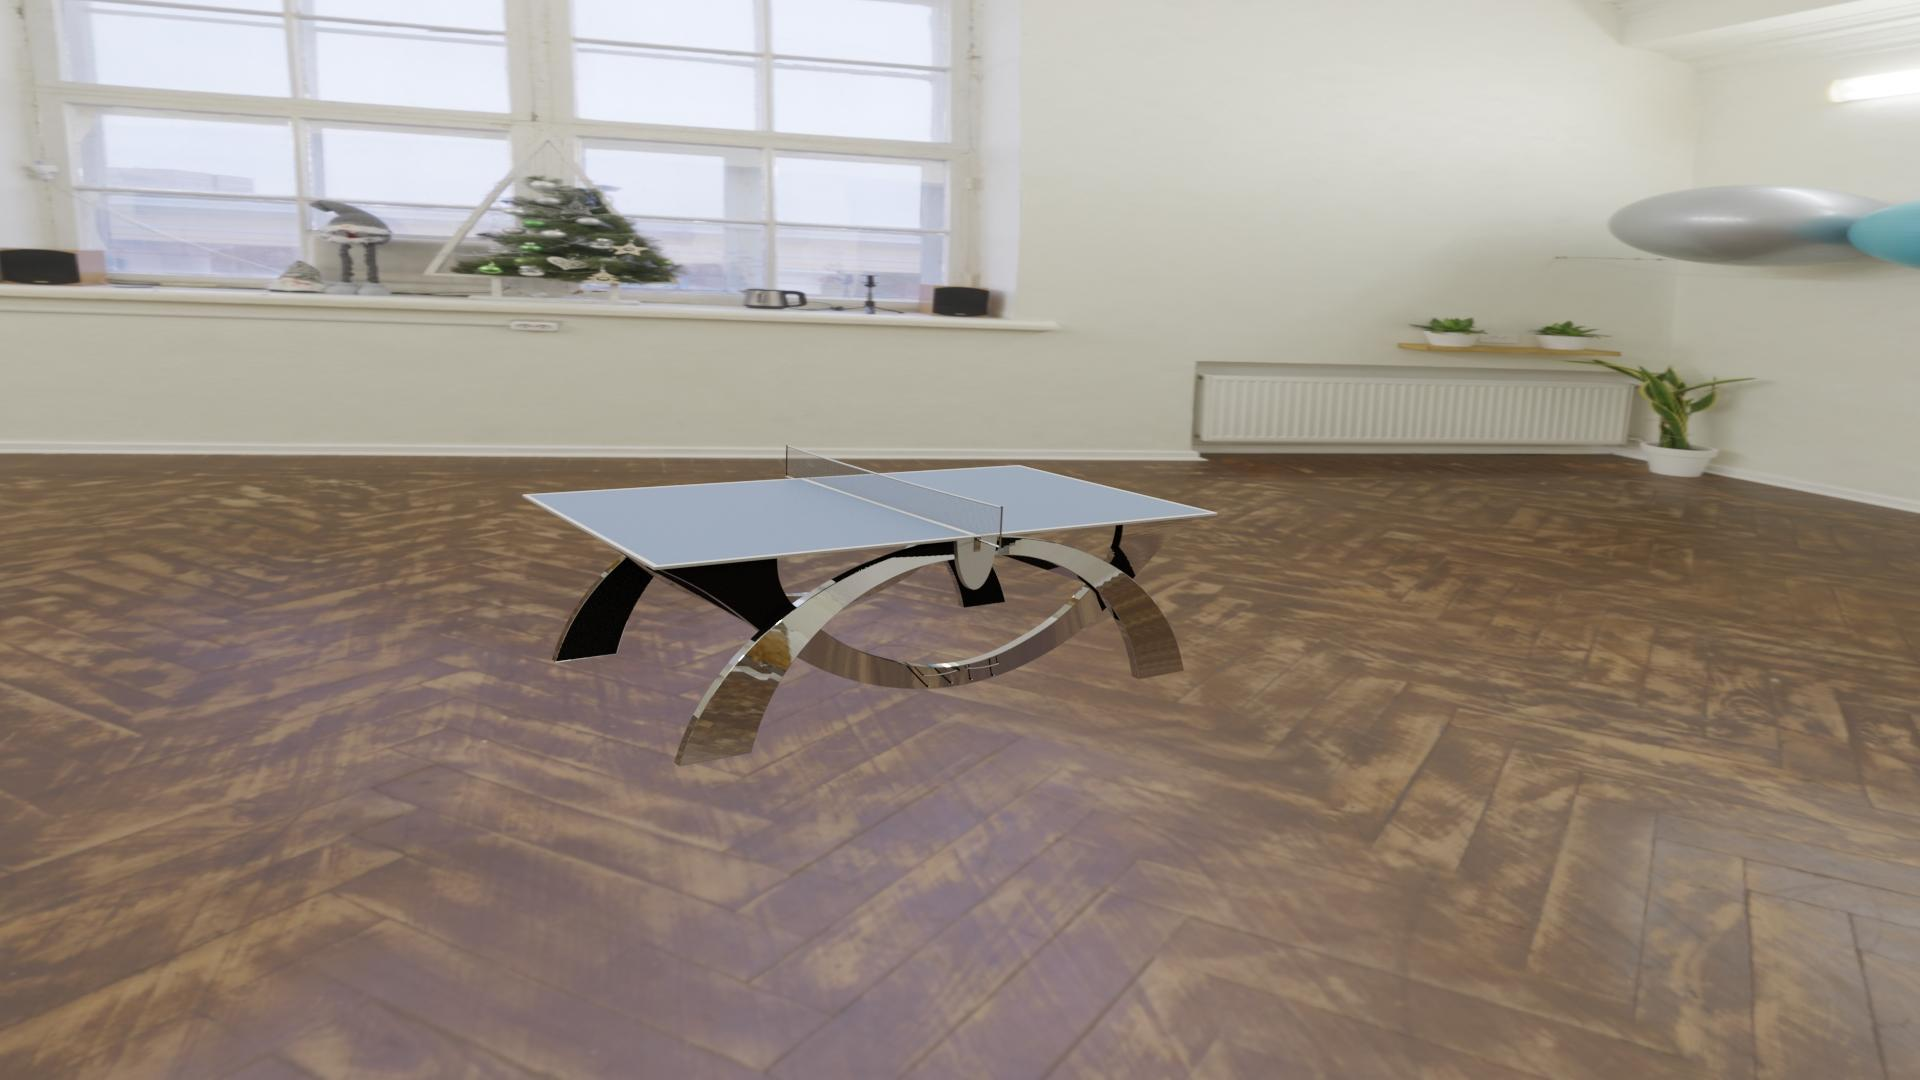table: (529, 465, 1212, 566)
